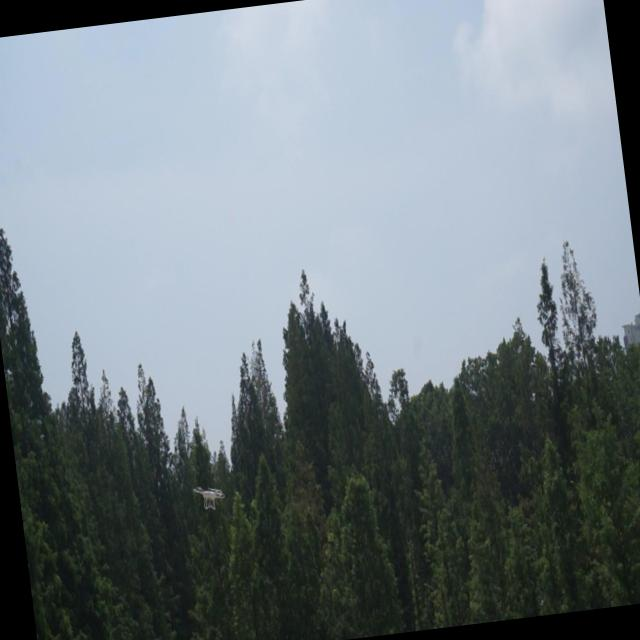drone: (189, 478, 227, 514)
